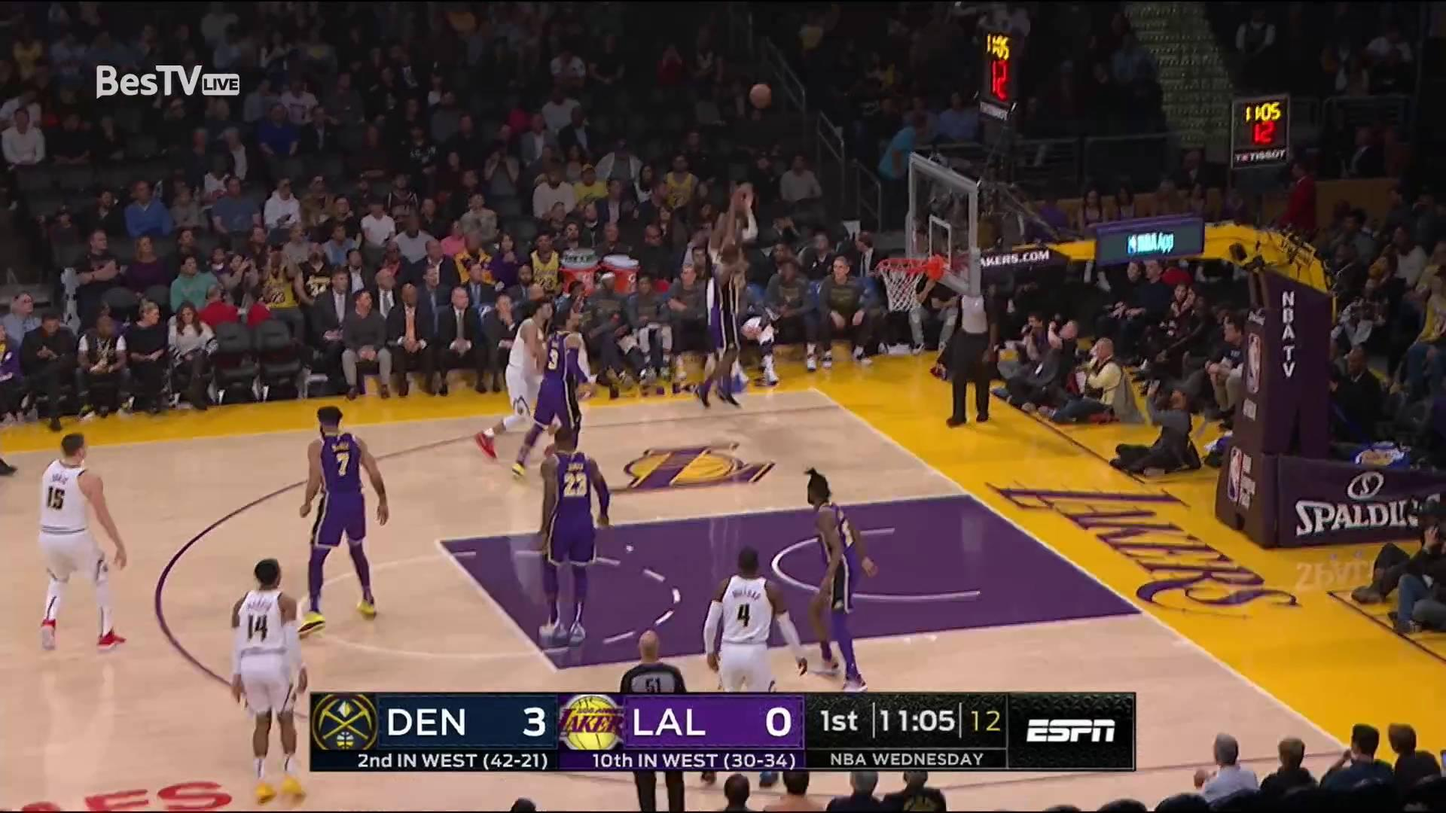basketball: (749, 82, 778, 111)
